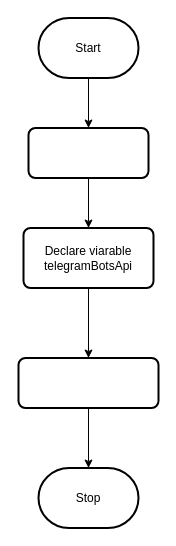
The diagram is 176 pixels wide and 546 high, and some of its shapes have lost their labels. The centre of each missing label's shape, as x and y in pixels:
"disableWarning()" goes at point (88, 152).
"Register MyBot" goes at point (88, 382).
